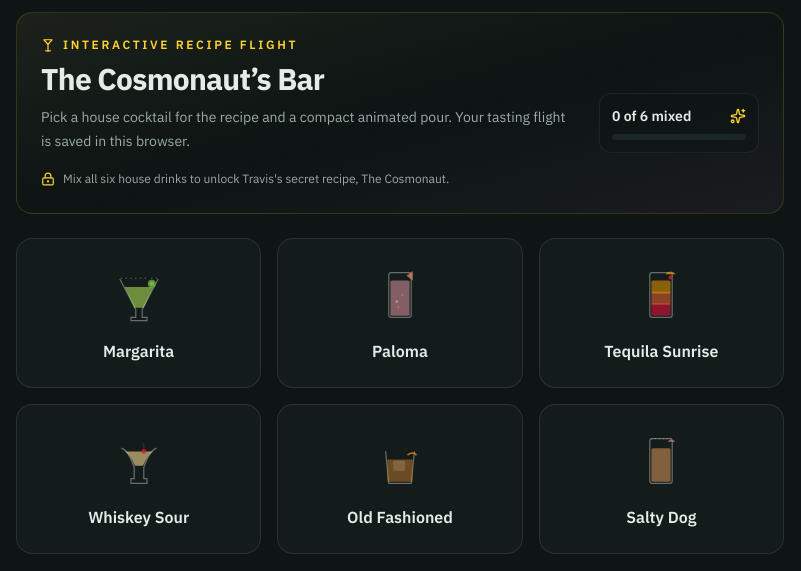
CocktailMixer component › navigates to recipe view on cocktail click
This screenshot has width=801, height=571.
Click the button "Margarita" at (139, 313), box [16,238,261,388]
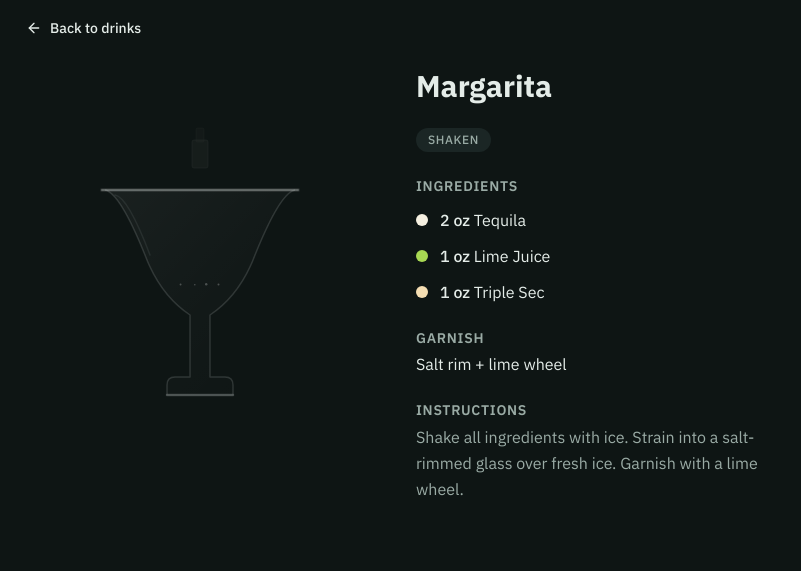
expect the button "Back to drinks" is shown: met, box [16,12,151,44]
expect the heading "Ingredients" is shown: met, box [416,177,518,195]
